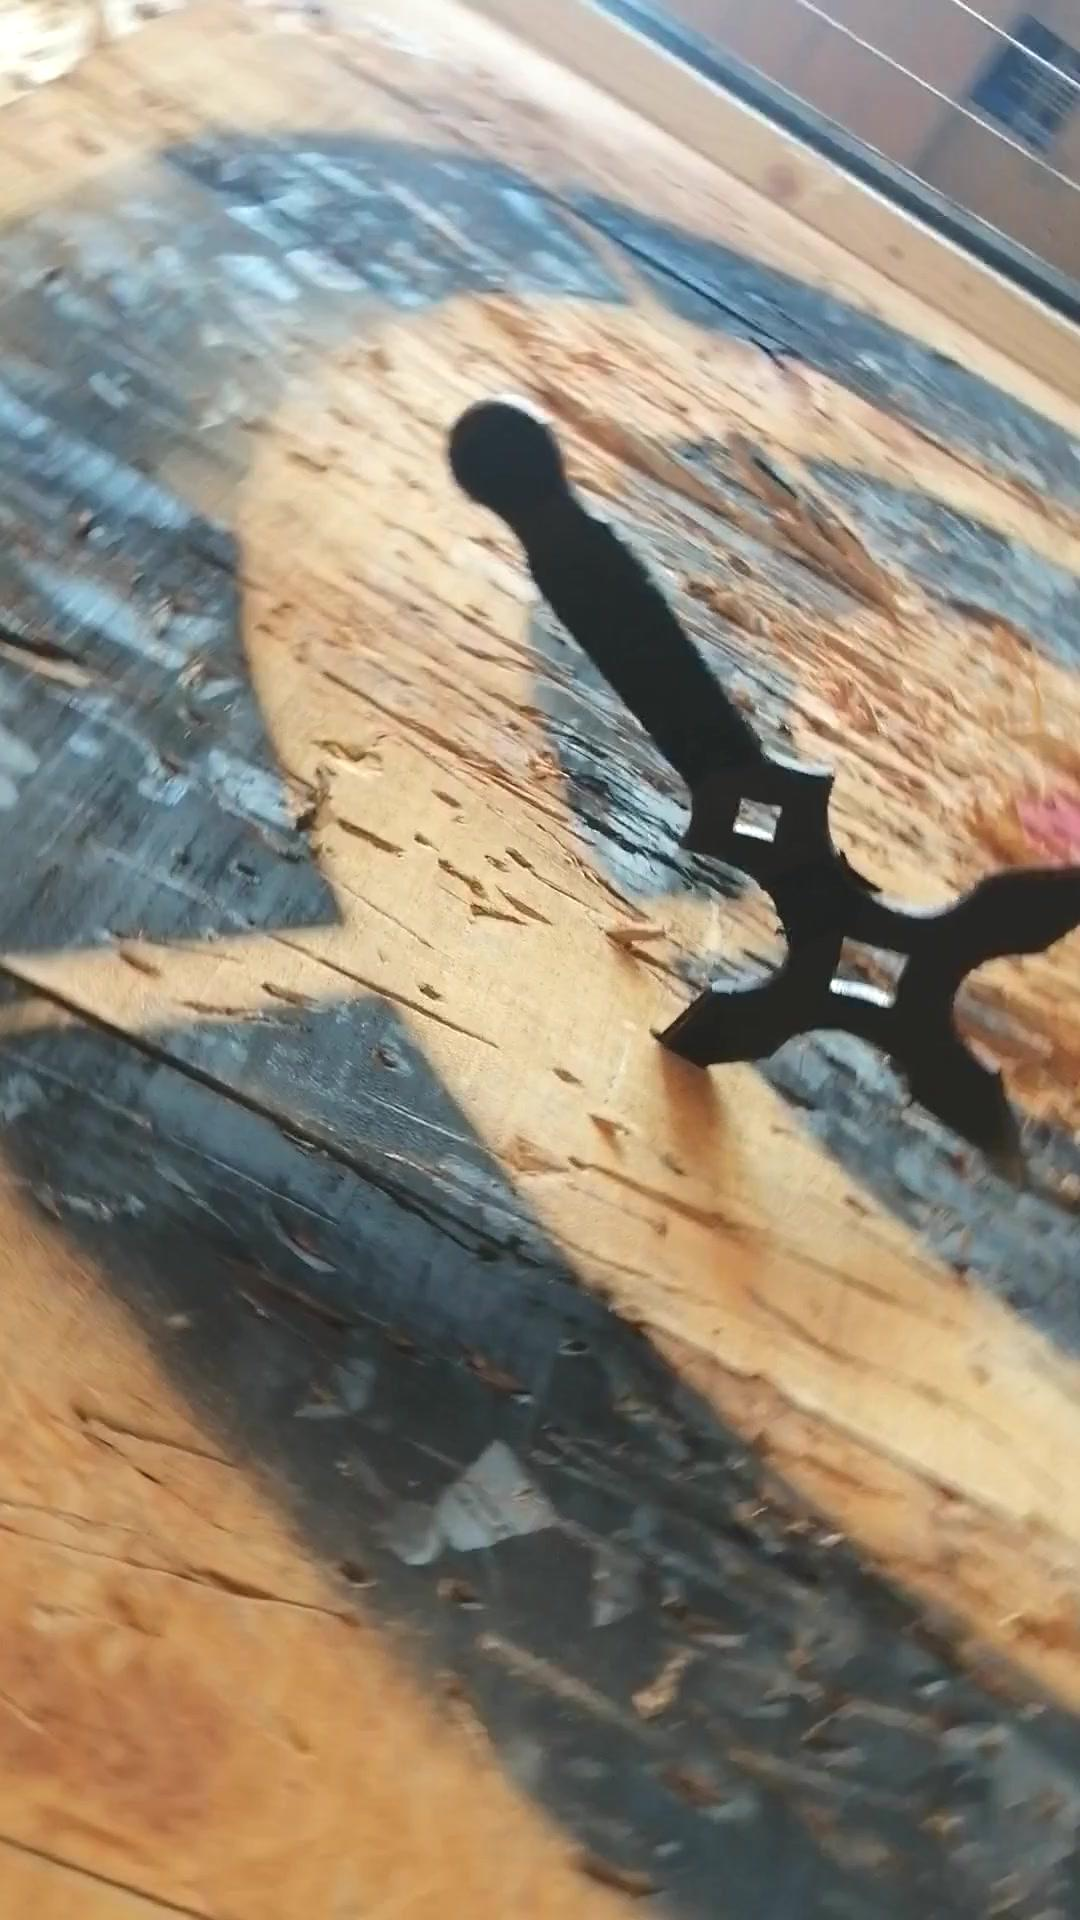Hand Axe: (440, 393, 1079, 1196)
